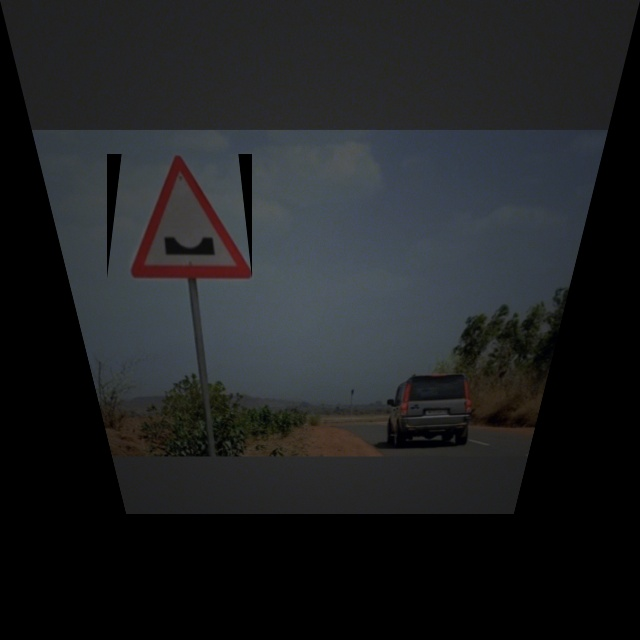Dangerous_Dip: (107, 154, 252, 279)
